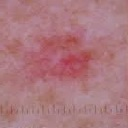Carcinoma: (29, 40, 91, 78)
